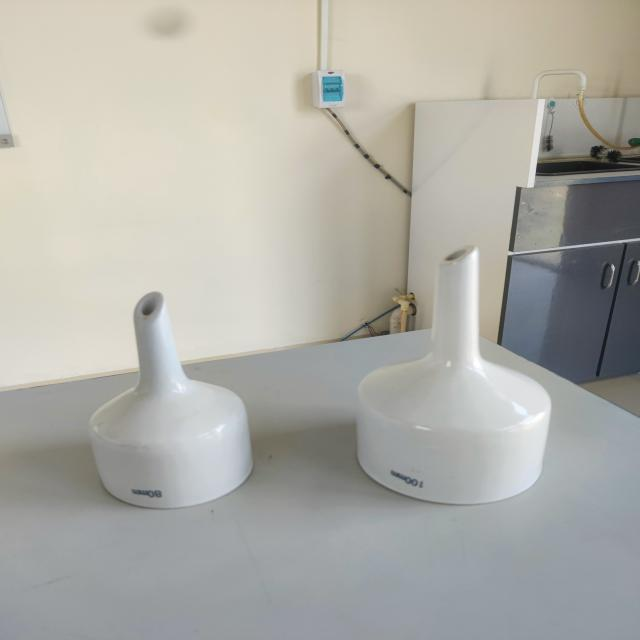Buchner_Funnel: (327, 221, 590, 530), (78, 281, 274, 528)
